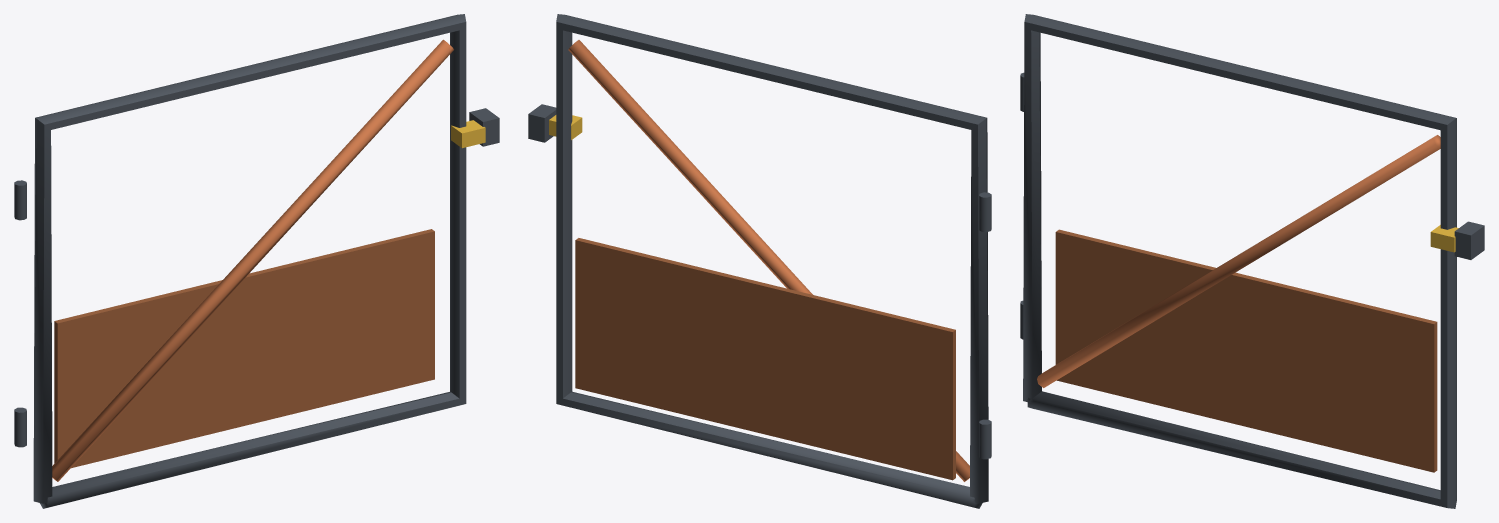
File: fence-pipe-gate.lod1.glb
3 renders of one model, left to right at view 1: azimuth 30°, elevation 25°; view 2: azimuth 150°, elevation 25°; view 3: azimuth 330°, elevation 25°, orthographic.
Visible parts, largest first — view 1: fence-pipe-gate_lod1; view 2: fence-pipe-gate_lod1; view 3: fence-pipe-gate_lod1.
Boxes of the visible parts, <box> form: fence-pipe-gate_lod1: <box>14,14,499,508</box>; fence-pipe-gate_lod1: <box>528,14,991,508</box>; fence-pipe-gate_lod1: <box>1020,14,1484,508</box>.
Size of the model in its own units: 0.9895 by 0.7941 by 0.082.
